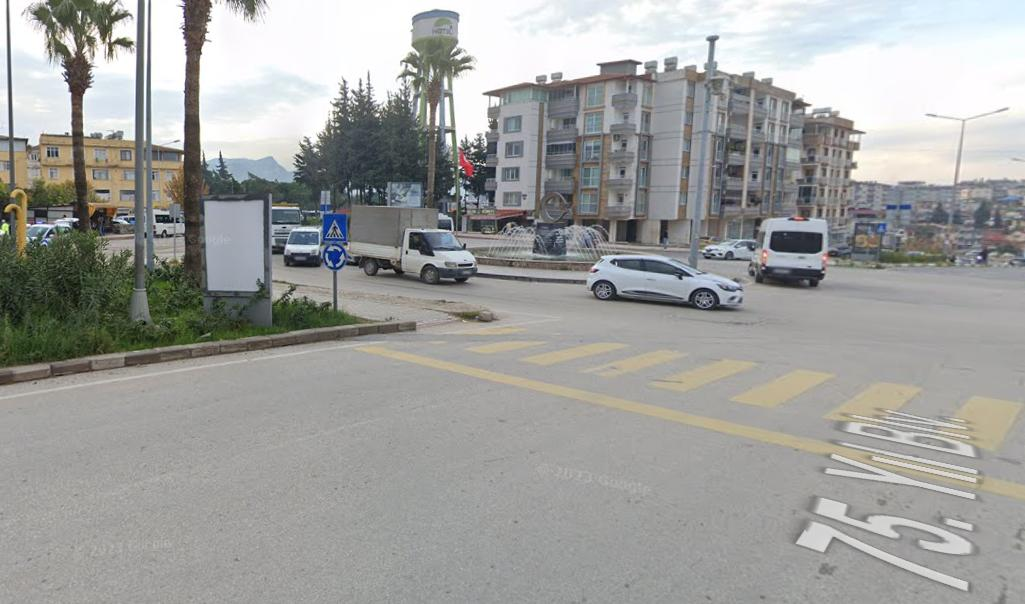crossroads: (324, 244, 344, 268)
